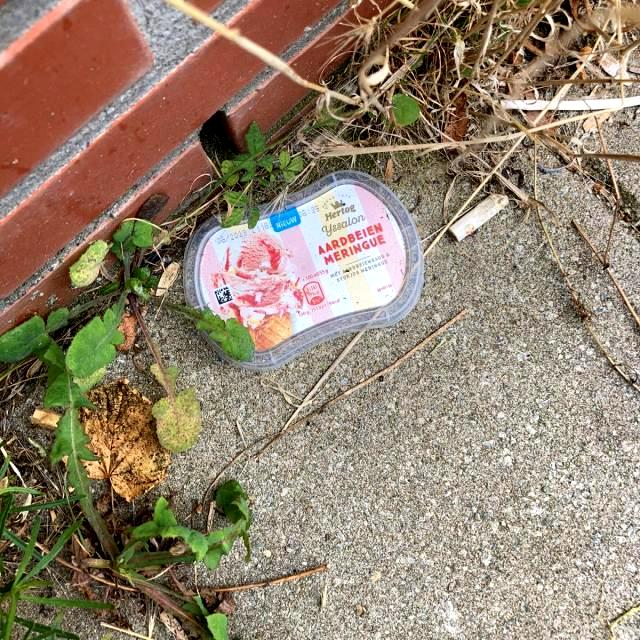Paper: (180, 167, 426, 376)
